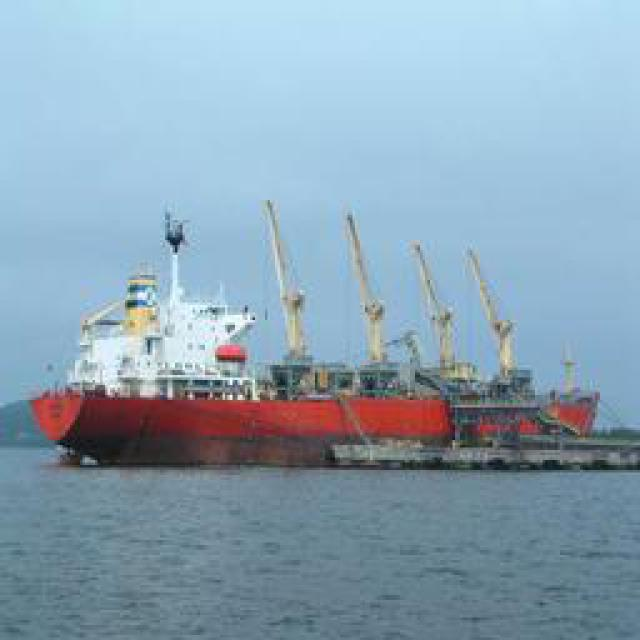Ship: (32, 194, 590, 464)
